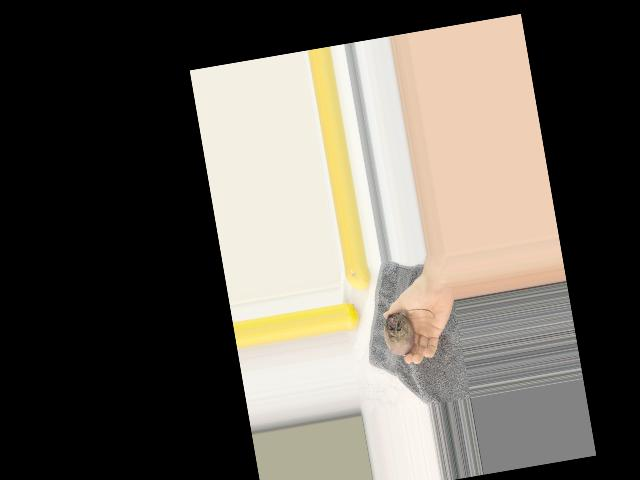beet: (380, 307, 440, 358)
